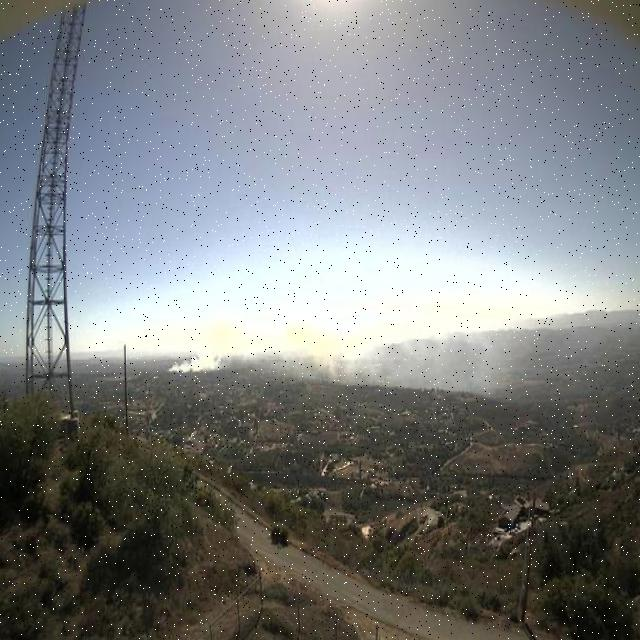smoke: (169, 328, 380, 383)
